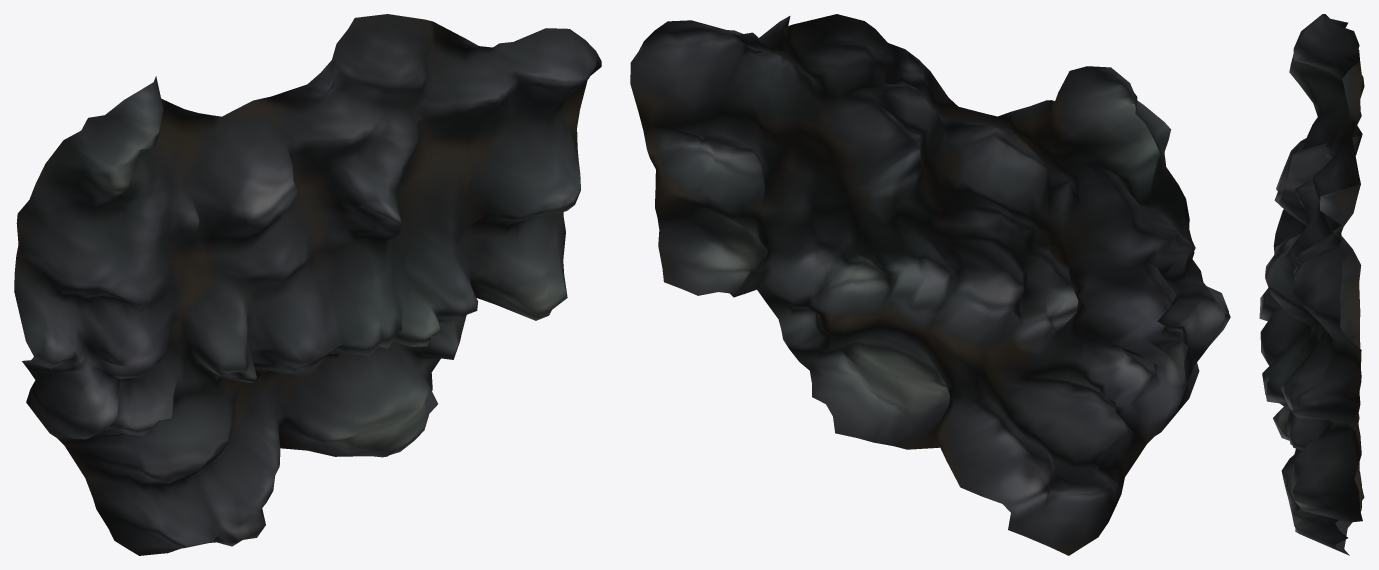
File: Mussels06.fbx
The picture shows the model from 3 angles, left to right: view 1: azimuth 30°, elevation 25°; view 2: azimuth 150°, elevation 25°; view 3: azimuth 270°, elevation 25°; orthographic projection. The views are drawn at different scales.
Parts seen in each view (by area): view 1: Mussels06; view 2: Mussels06; view 3: Mussels06.
Part boxes in pixels (x1=…): Mussels06: x1=14, y1=14, x2=601, y2=555; Mussels06: x1=630, y1=14, x2=1230, y2=555; Mussels06: x1=1259, y1=14, x2=1364, y2=555.
Bounding box in the file's own units: 64.11 × 50.82 × 10.16.
